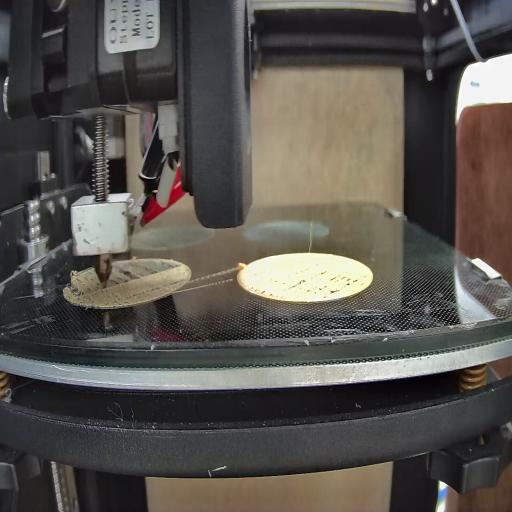under_extrusion: (248, 273, 366, 302), (60, 259, 96, 302), (106, 259, 161, 285)
